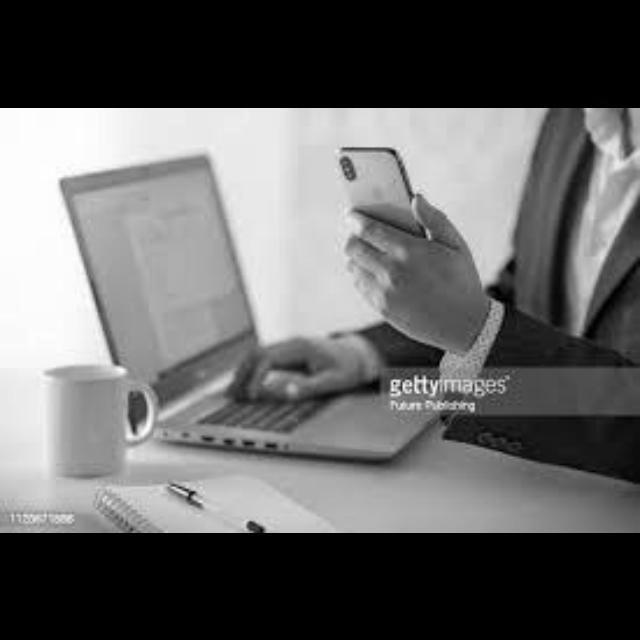fake: (310, 126, 453, 278)
